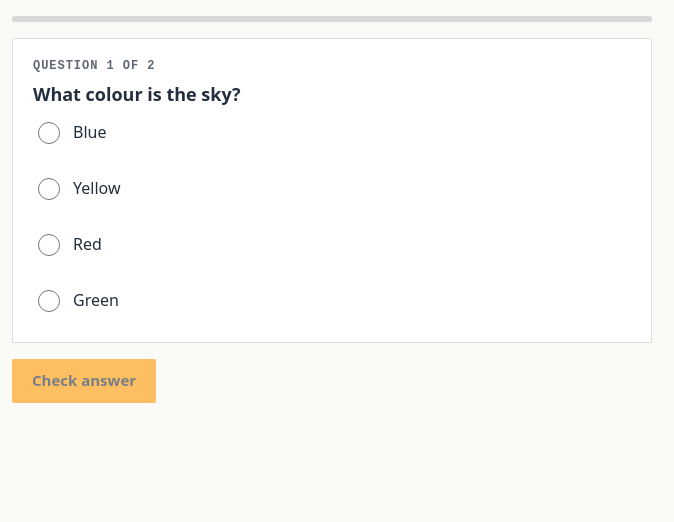
Test: Knowledge check › says when an answer is right, tells Smiley and moves focus to the feedback
What coordinates should you click on to do the following:
click the radio button labelled "Blue"
I would click on:
 (49, 134)
Its box is [38,122,60,144].
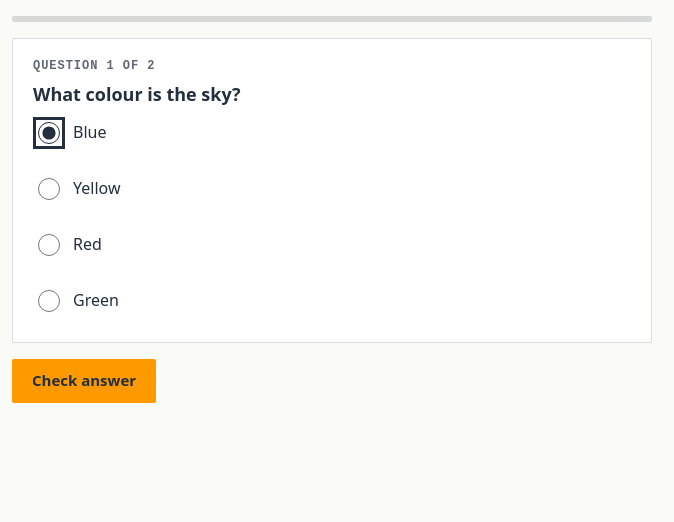
What coordinates should you click on to do the following:
click the button "Check answer"
I would click on:
 (84, 381)
Its box is [12,359,156,403].
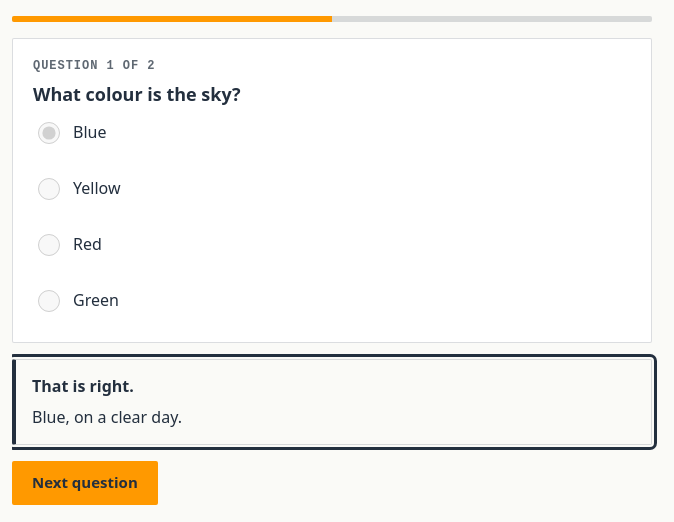
Now the radio button labelled "Green" is disabled, box [38,290,60,312]
